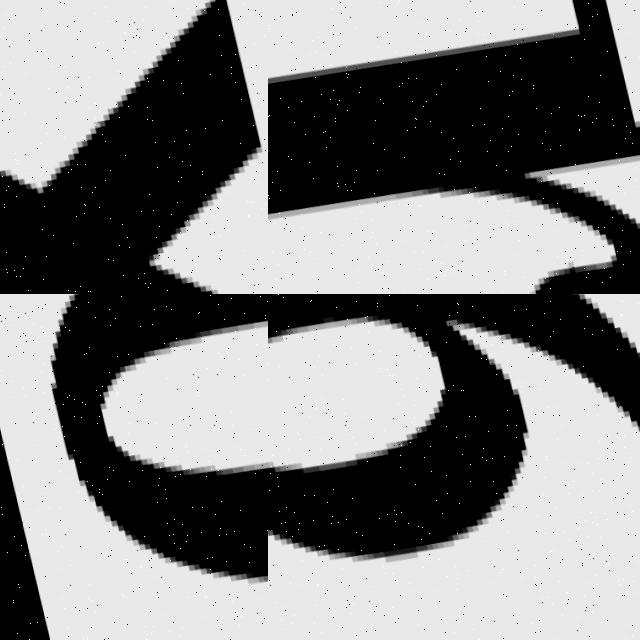0: (8, 294, 268, 638)
6: (268, 294, 640, 610)
R: (268, 0, 640, 294)
X: (0, 0, 268, 294)
